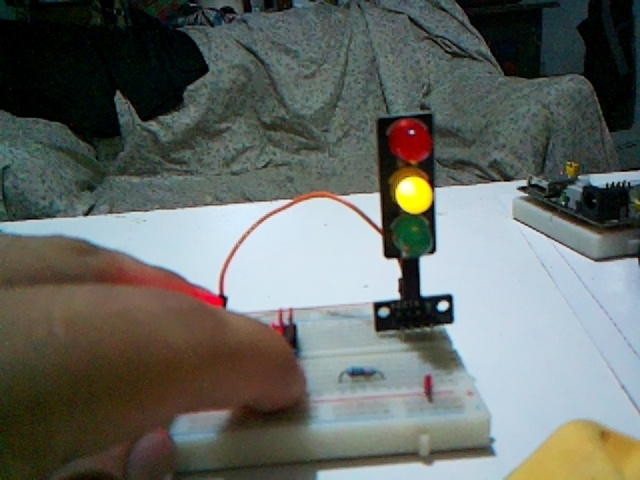traffic_light_yellow: (377, 111, 436, 259)
